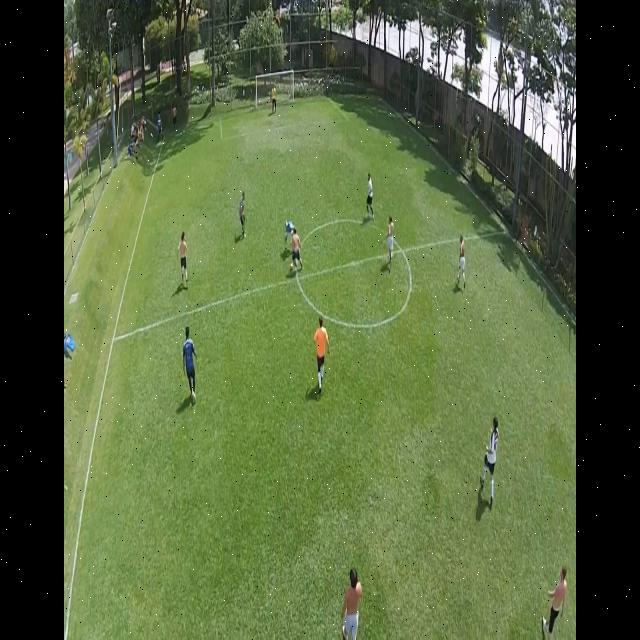humans: (478, 412, 500, 510), (542, 562, 569, 640), (340, 560, 366, 640), (311, 310, 332, 396), (180, 319, 199, 410), (381, 208, 397, 272), (454, 231, 468, 292), (176, 228, 190, 286), (289, 224, 303, 273), (364, 166, 375, 222), (237, 188, 247, 242), (154, 105, 164, 152), (268, 80, 278, 121), (170, 96, 179, 136), (282, 215, 292, 248)
